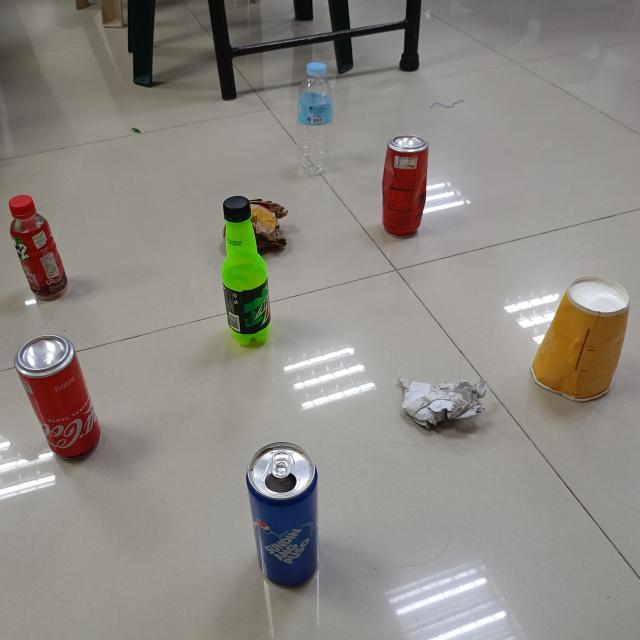recyclable waste: (524, 269, 636, 406), (241, 436, 326, 593), (9, 328, 105, 466), (218, 192, 274, 351), (4, 190, 72, 304), (392, 371, 494, 434), (378, 129, 431, 242), (293, 56, 338, 181), (241, 194, 291, 254)
